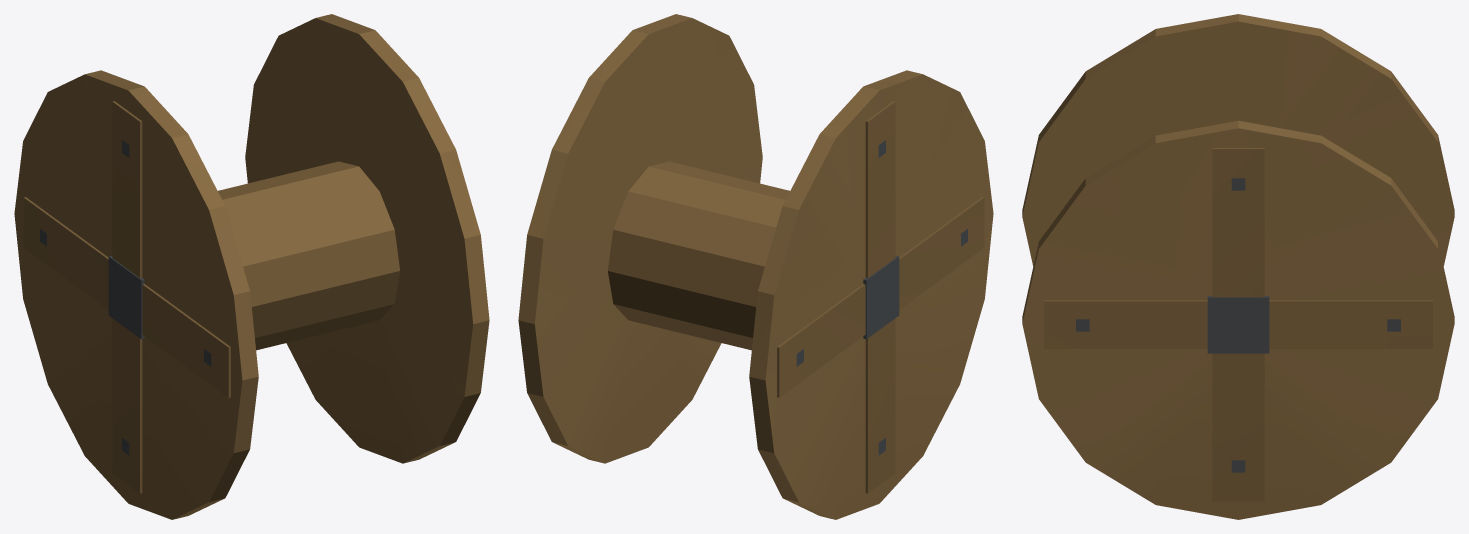
File: spool.cable.empty.glb
3 views of the same model, side by side, from view 1: azimuth 30°, elevation 25°; view 2: azimuth 150°, elevation 25°; view 3: azimuth 270°, elevation 25° (orthographic). The views are drawn at different scales.
Parts seen in each view (by area): view 1: spool_cable_empty; view 2: spool_cable_empty; view 3: spool_cable_empty.
Boxes of the visible parts, bbox=[...] form: spool_cable_empty: bbox=[14, 14, 489, 519]; spool_cable_empty: bbox=[518, 14, 993, 519]; spool_cable_empty: bbox=[1022, 14, 1454, 519].
Size of what is drawn, in the model's own units: 0.9 by 1.4 by 1.4.
